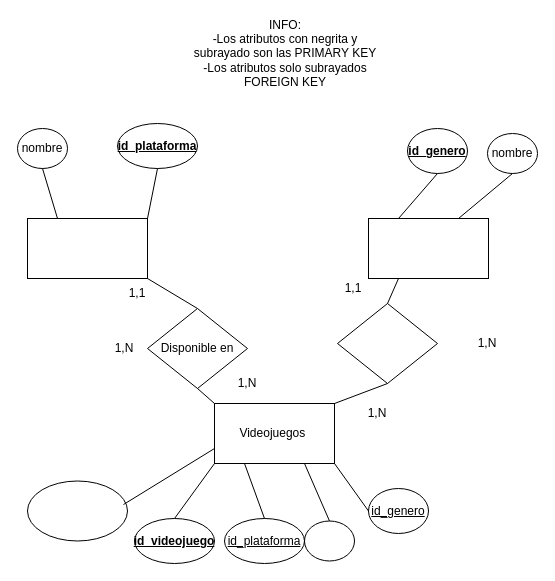
Some shapes in this 555 by 581 pixel diagram are drawn without their labels. Each missing label, with the centre of its shape:
Clasificado como: the point at 387,343
fecha_creacion: the point at 77,510
Genero: the point at 428,248
Plataforma: the point at 87,248
titulo: the point at 329,540
